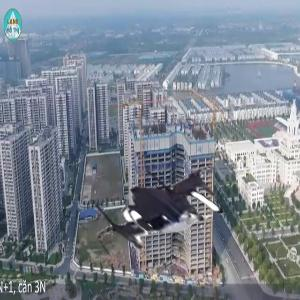drone: (87, 133, 239, 285)
